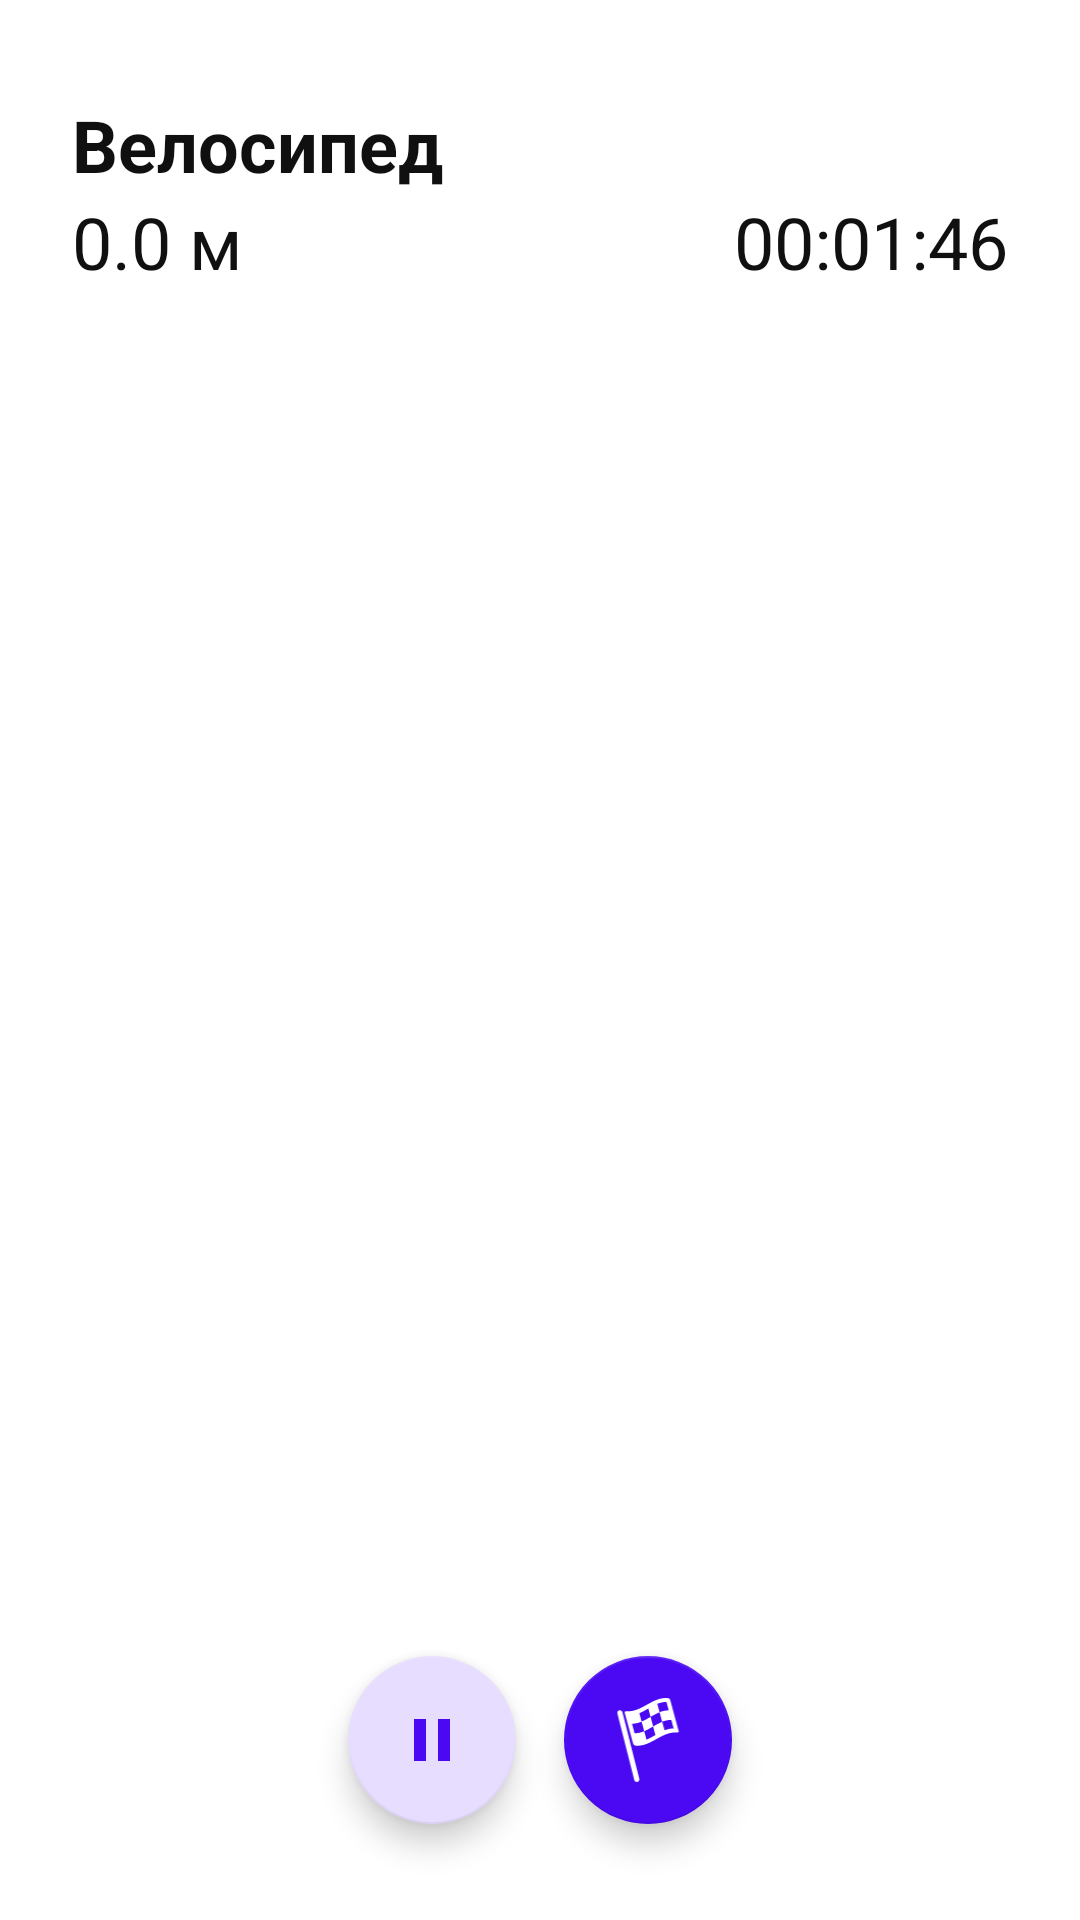

Screen size 1080×1920. Icon name, then its center in pixels as (x,y):
finish: (648,1740)
pause: (432,1740)
